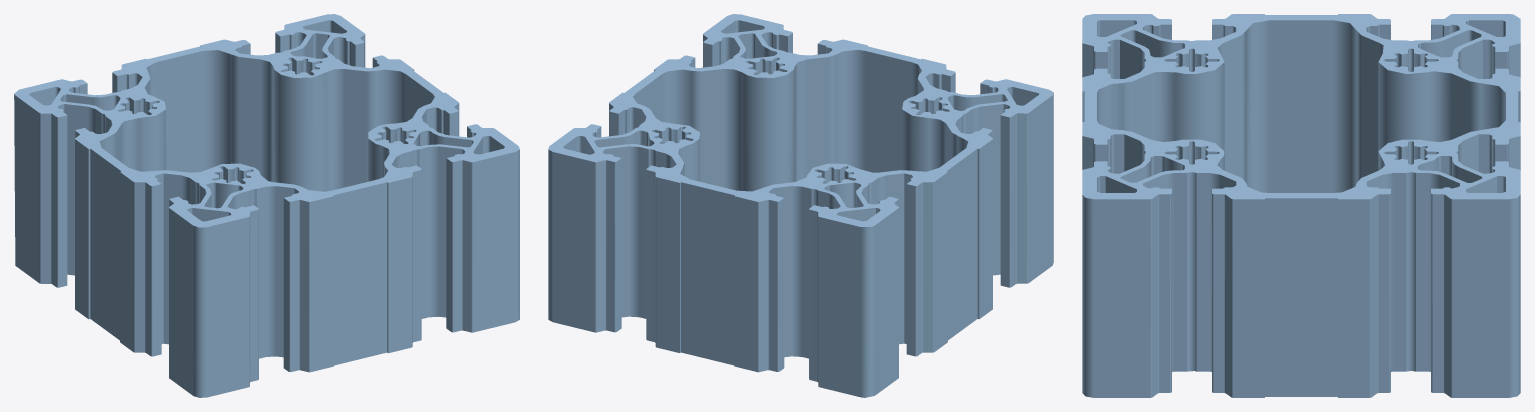
File: ST_EXT_005_0045.gltf
The picture shows the model from 3 angles, left to right: view 1: azimuth 30°, elevation 25°; view 2: azimuth 150°, elevation 25°; view 3: azimuth 270°, elevation 25°; orthographic projection. The views are drawn at different scales.
Bounding box in the file's own units: 0.09 × 0.045 × 0.09.
